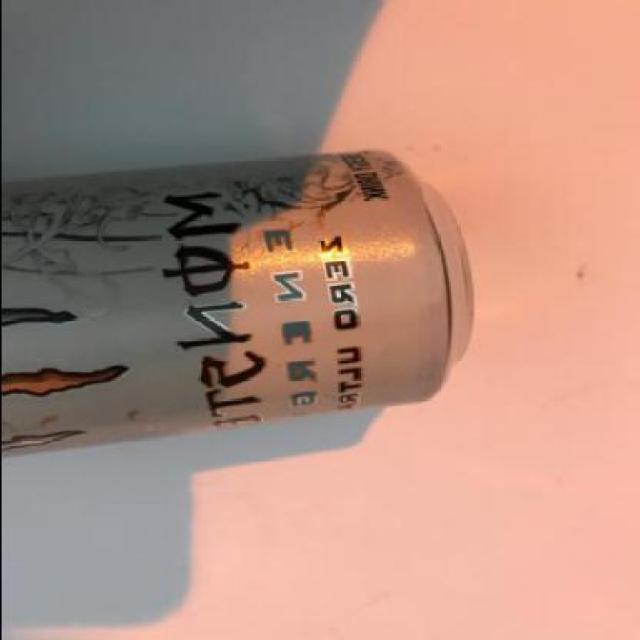METAL: (2, 152, 476, 457)
